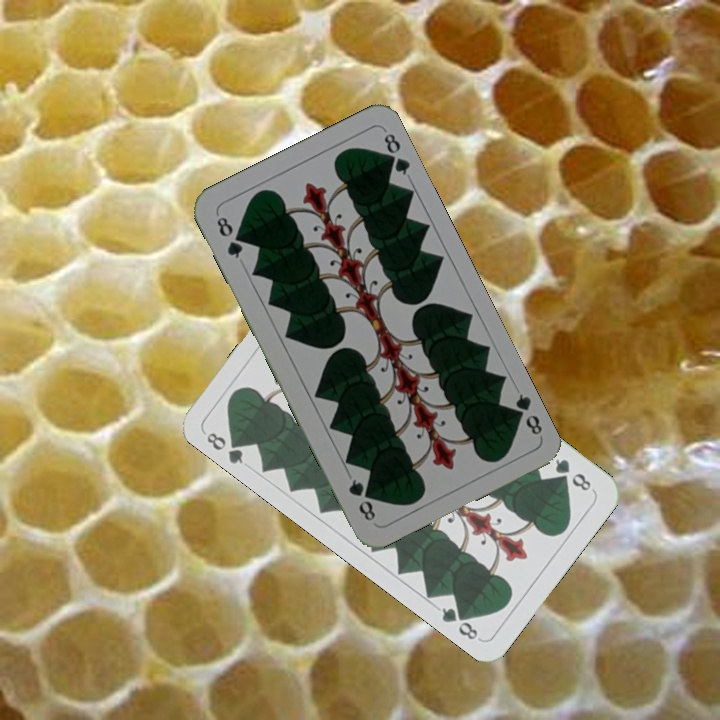G8: (506, 389, 545, 438), (202, 428, 248, 467), (550, 454, 594, 494), (212, 212, 246, 262)
